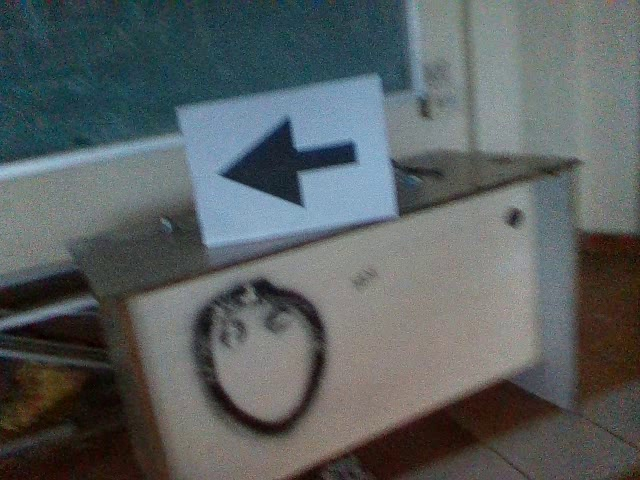Left: (209, 115, 363, 214)
